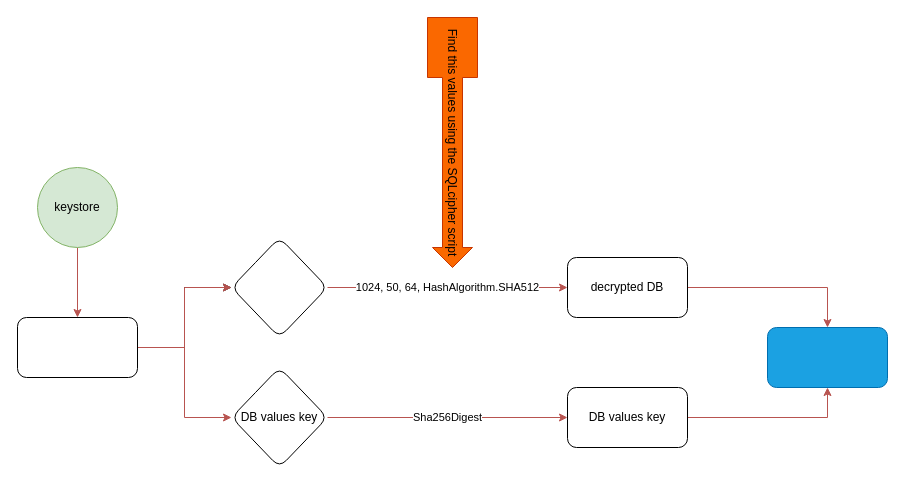
The diagram is 905 pixels wide and 485 high, and some of its shapes have lost their labels. The centre of each missing label's shape, as x and y in pixels:
"DB key" goes at (279,287).
"Decrypted shared preferences" goes at (77,347).
"decrypted values (Tokens)" goes at (827,357).
